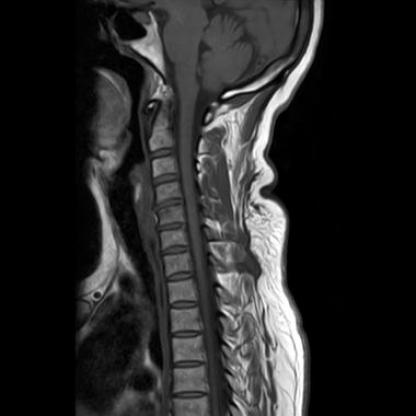Disc Bulgerotation: (155, 222, 186, 234)
Disc Protrusionrotation: (154, 196, 186, 213), (161, 242, 191, 258)
